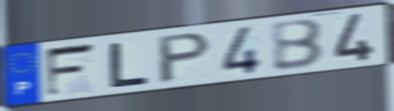4: (332, 11, 377, 64), (220, 23, 263, 77)
B: (269, 17, 326, 73)
F: (43, 40, 99, 100)
L: (108, 40, 151, 89)
P: (157, 30, 215, 87)
